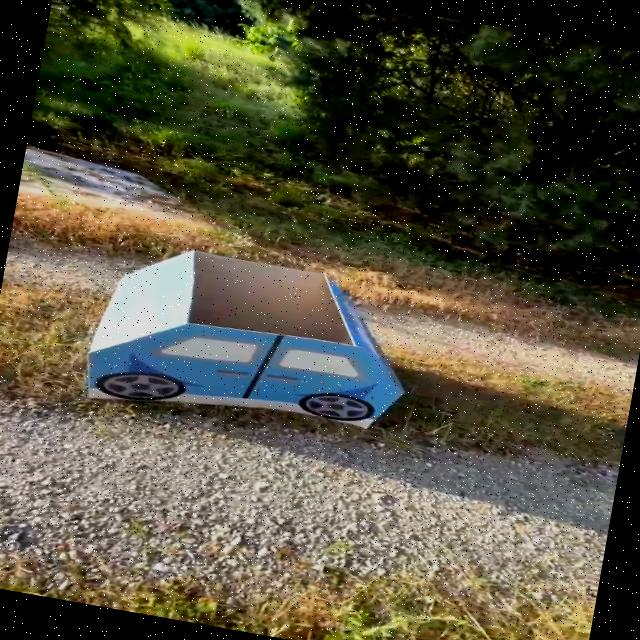blue_car: (53, 203, 473, 509)
